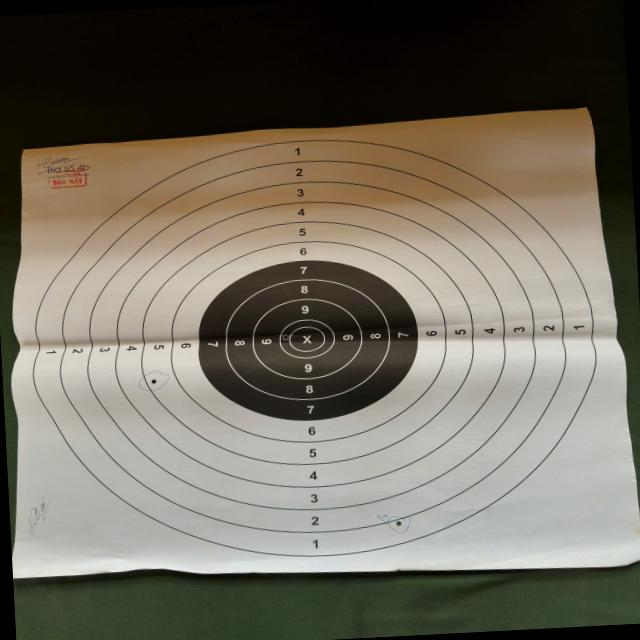bullet: (396, 520, 402, 526), (151, 379, 157, 384)
target: (12, 108, 640, 576)
